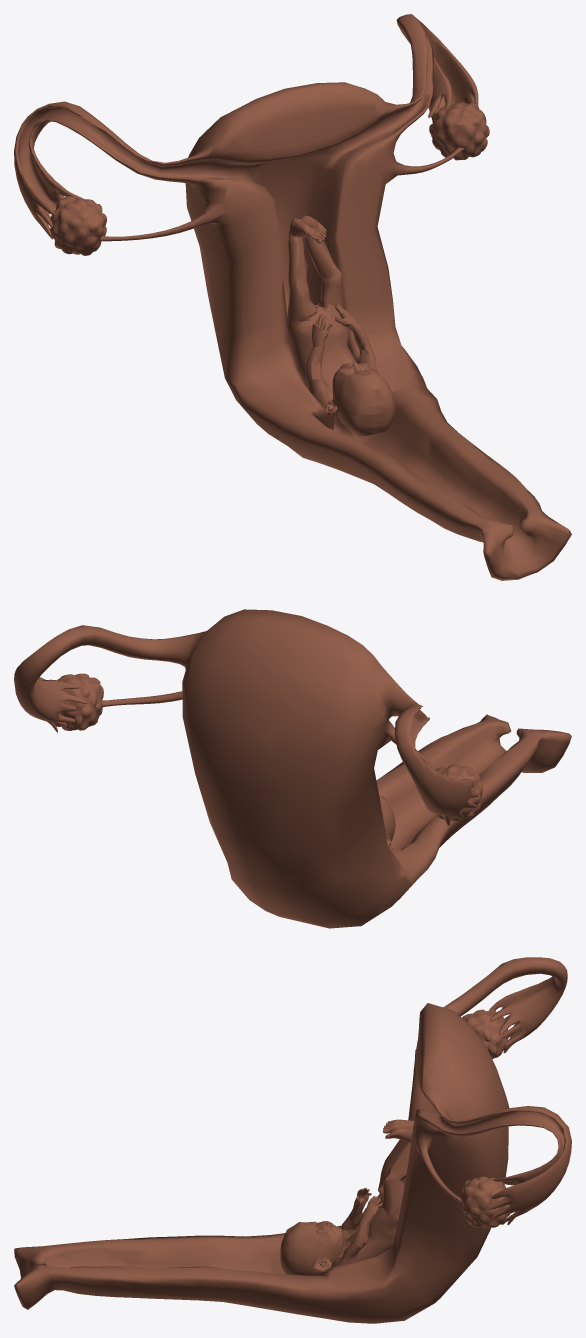
The model's file is Cervix vagina.fbx.
3 views of the same model, one above another, from view 1: azimuth 30°, elevation 25°; view 2: azimuth 150°, elevation 25°; view 3: azimuth 270°, elevation 25° (orthographic). The views are drawn at different scales.
Visible parts, largest first — view 1: REPRODUCTIONEPRODUCTIONINANIMALS:Uterus_XSection:UterusCross, fetus1, REPRODUCTIONEPRODUCTIONINANIMALS:Uterus_XSection:Ovary001, REPRODUCTIONEPRODUCTIONINANIMALS:Uterus_XSection:Ovary002; view 2: REPRODUCTIONEPRODUCTIONINANIMALS:Uterus_XSection:UterusCross, REPRODUCTIONEPRODUCTIONINANIMALS:Uterus_XSection:Ovary002, REPRODUCTIONEPRODUCTIONINANIMALS:Uterus_XSection:Ovary001, fetus1; view 3: REPRODUCTIONEPRODUCTIONINANIMALS:Uterus_XSection:UterusCross, fetus1, REPRODUCTIONEPRODUCTIONINANIMALS:Uterus_XSection:Ovary002, REPRODUCTIONEPRODUCTIONINANIMALS:Uterus_XSection:Ovary001.
Part boxes in pixels (<box>): REPRODUCTIONEPRODUCTIONINANIMALS:Uterus_XSection:UterusCross: <box>14,14,571,580</box>; fetus1: <box>286,215,395,436</box>; REPRODUCTIONEPRODUCTIONINANIMALS:Uterus_XSection:Ovary001: <box>50,196,106,255</box>; REPRODUCTIONEPRODUCTIONINANIMALS:Uterus_XSection:Ovary002: <box>429,102,489,160</box>; REPRODUCTIONEPRODUCTIONINANIMALS:Uterus_XSection:UterusCross: <box>14,609,571,928</box>; REPRODUCTIONEPRODUCTIONINANIMALS:Uterus_XSection:Ovary002: <box>55,673,103,730</box>; REPRODUCTIONEPRODUCTIONINANIMALS:Uterus_XSection:Ovary001: <box>436,764,482,821</box>; fetus1: <box>379,795,395,846</box>; REPRODUCTIONEPRODUCTIONINANIMALS:Uterus_XSection:UterusCross: <box>14,957,571,1323</box>; fetus1: <box>280,1119,414,1275</box>; REPRODUCTIONEPRODUCTIONINANIMALS:Uterus_XSection:Ovary002: <box>460,1176,510,1228</box>; REPRODUCTIONEPRODUCTIONINANIMALS:Uterus_XSection:Ovary001: <box>462,1009,508,1059</box>.
Size of the model in its own units: 265 by 189 by 322.
